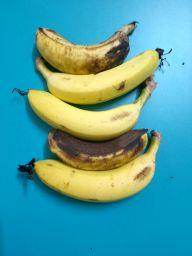banana: (17, 129, 162, 205), (9, 74, 160, 143), (35, 43, 174, 106), (34, 19, 140, 77), (47, 127, 151, 172)
